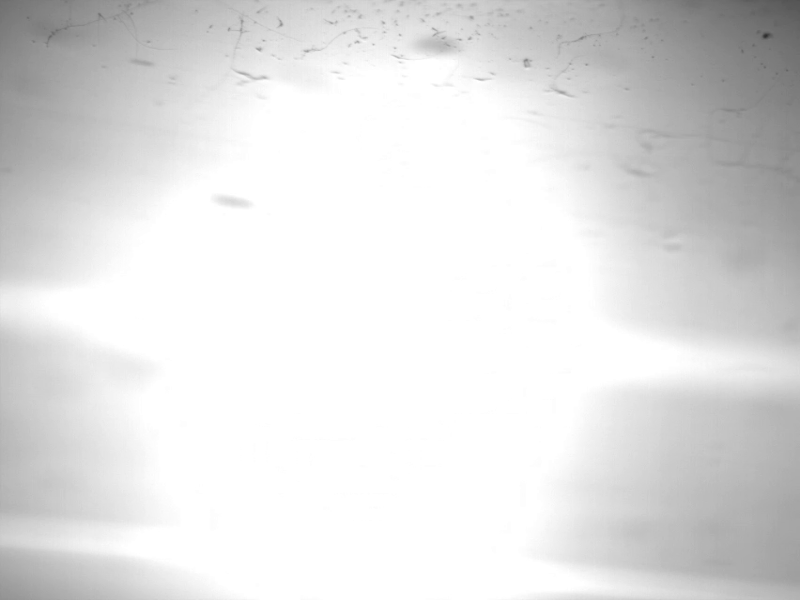bead: (408, 30, 463, 57), (214, 192, 253, 213)
